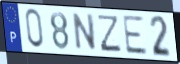0: (24, 7, 45, 51)
2: (149, 14, 172, 59)
8: (49, 9, 71, 52)
E: (121, 14, 149, 56)
N: (72, 12, 97, 51)
Z: (98, 14, 123, 54)
